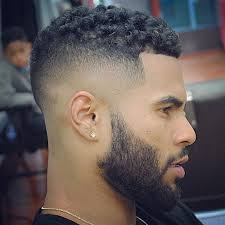black_male: (35, 8, 206, 225)
